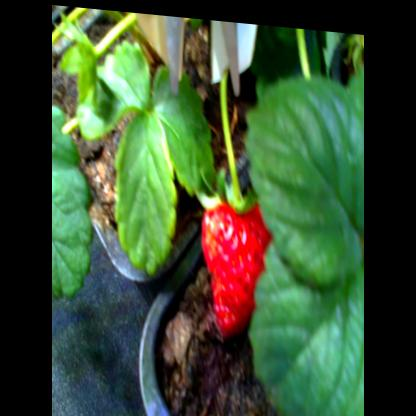ripe: (198, 181, 276, 341)
